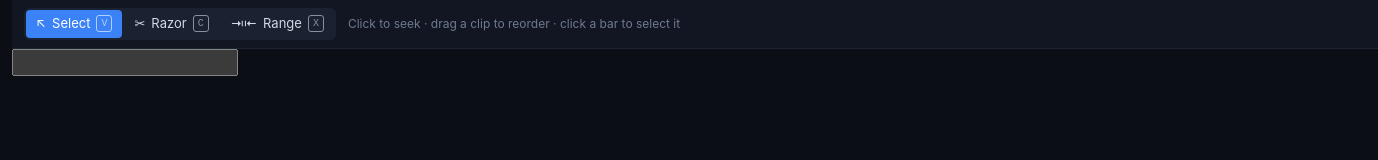
Test: ToolToolbar › switches tools on click and shows the active tool’s hint
Click the radio button labelled "✂ Razor C". click: x=172, y=24
box: [124, 10, 219, 38]
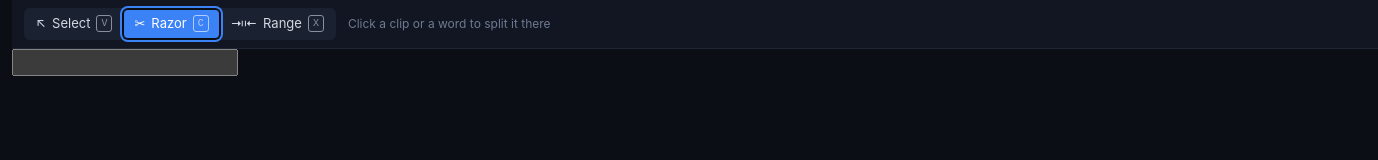
Result: the text "Click a clip or a word to split it there" is shown at [348, 15, 551, 33]
